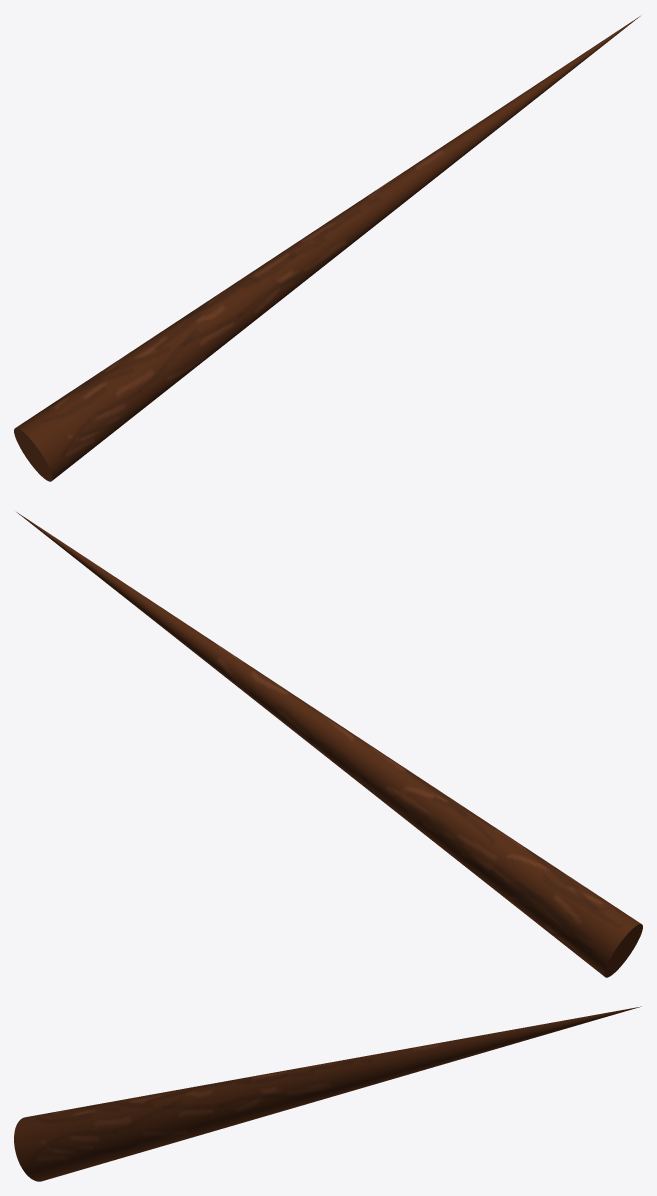
The model's file is ShipFront.fbx.
3 renders of one model, top to bottom at view 1: azimuth 30°, elevation 25°; view 2: azimuth 150°, elevation 25°; view 3: azimuth 330°, elevation 25°, orthographic.
Parts seen in each view (by area): view 1: root; view 2: root; view 3: root.
Part boxes in pixels (x1,y1,x2,y2): root: (14, 16, 640, 481); root: (16, 512, 642, 977); root: (14, 1006, 640, 1181).
Size of the model in its own units: 2.75 by 1.35 by 0.2318.
Materials: 1 (1 with a texture image).
